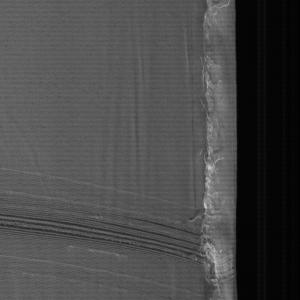Damage: (191, 1, 250, 300)
Wrinkle: (93, 19, 153, 229)
